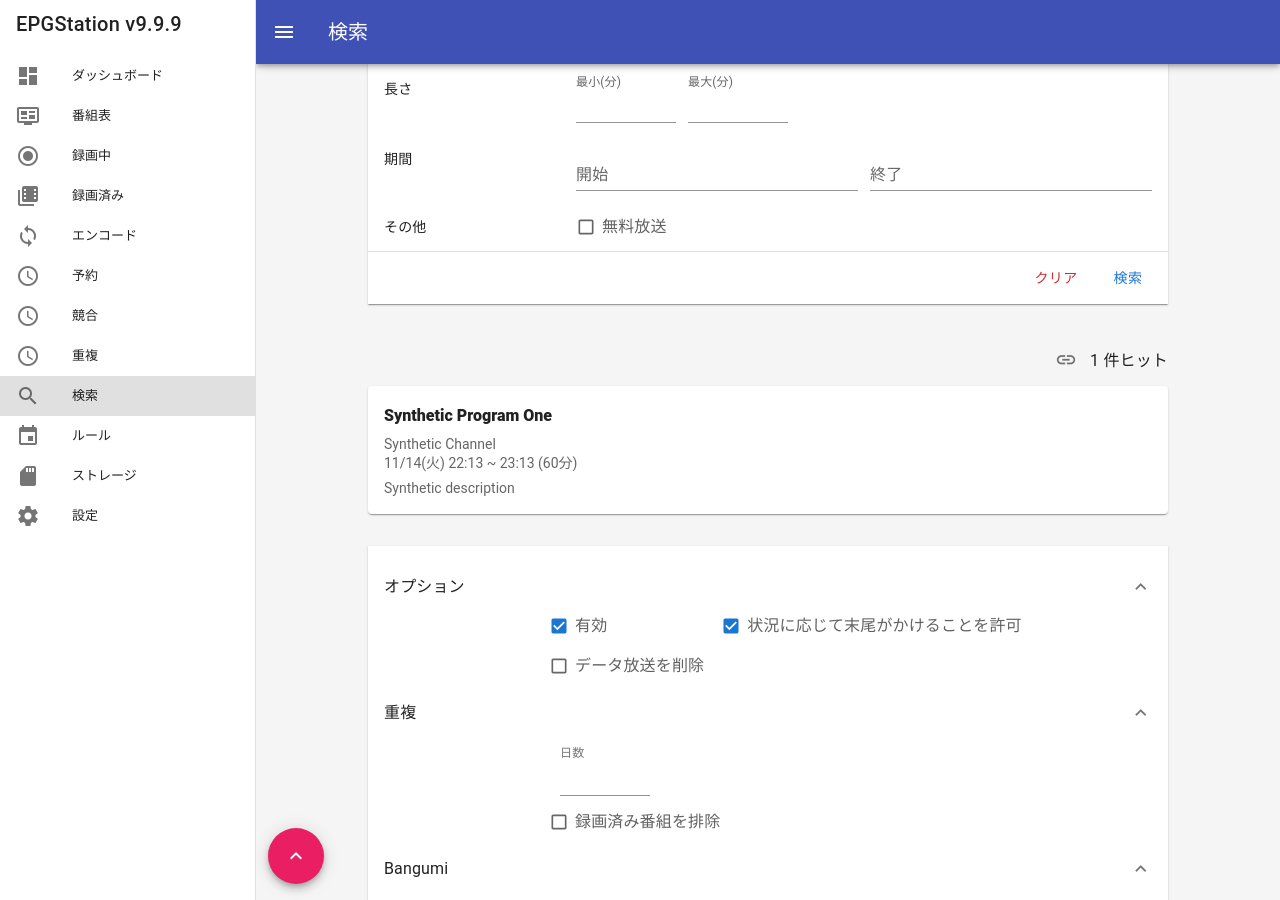
Search route lifecycle › [AC 2.7] unlocks a skipped reservation from a search result ProgramDialog
(page scrolled)
Step 1. Click the button "Synthetic Program One" → (468, 416), box [368, 386, 1168, 514]
(page scrolled)
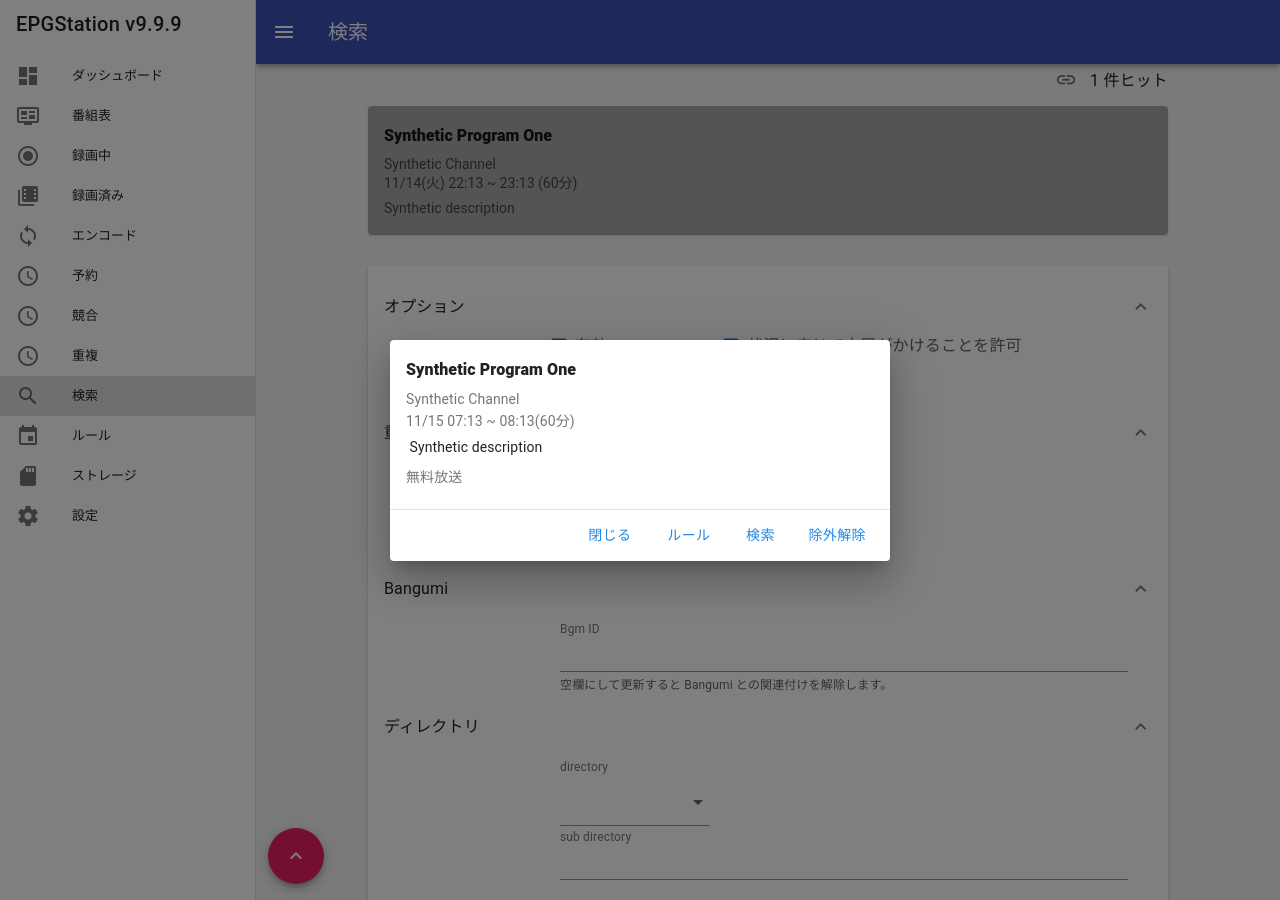
Step 2. Click the button "除外解除" → (837, 536), box [792, 518, 882, 554]
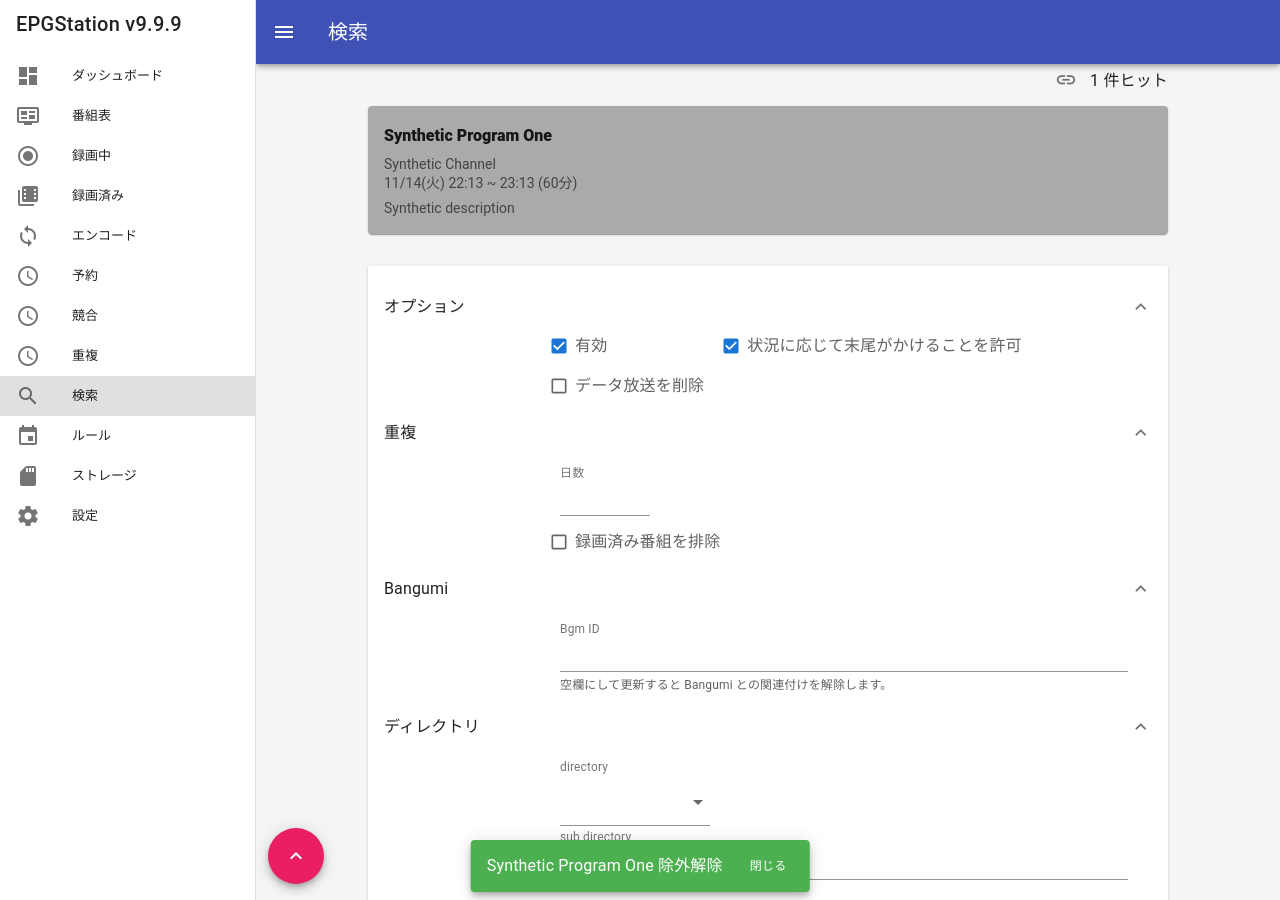
Now the text "Synthetic Program One 除外解除" is shown, box [487, 856, 723, 875]
